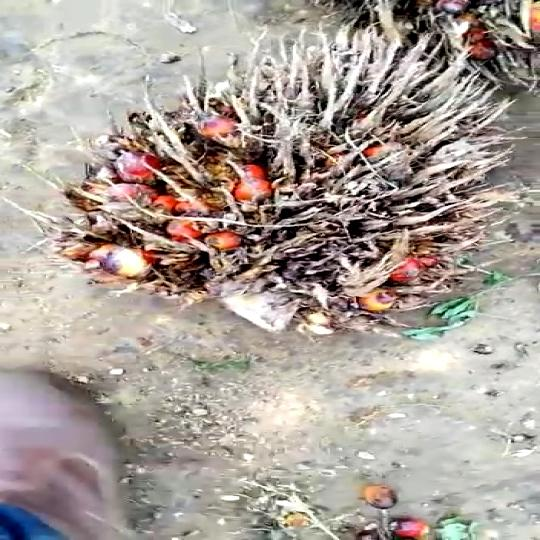terlalu masak: (31, 19, 540, 348)
